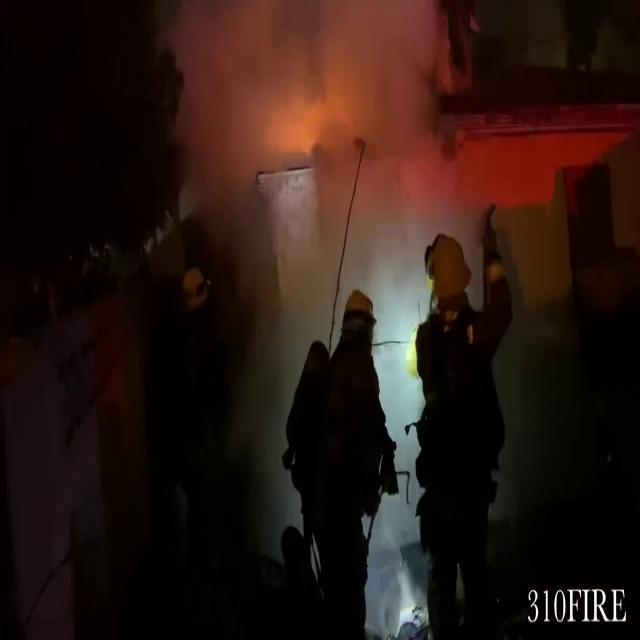Smoke: (157, 0, 479, 303)
